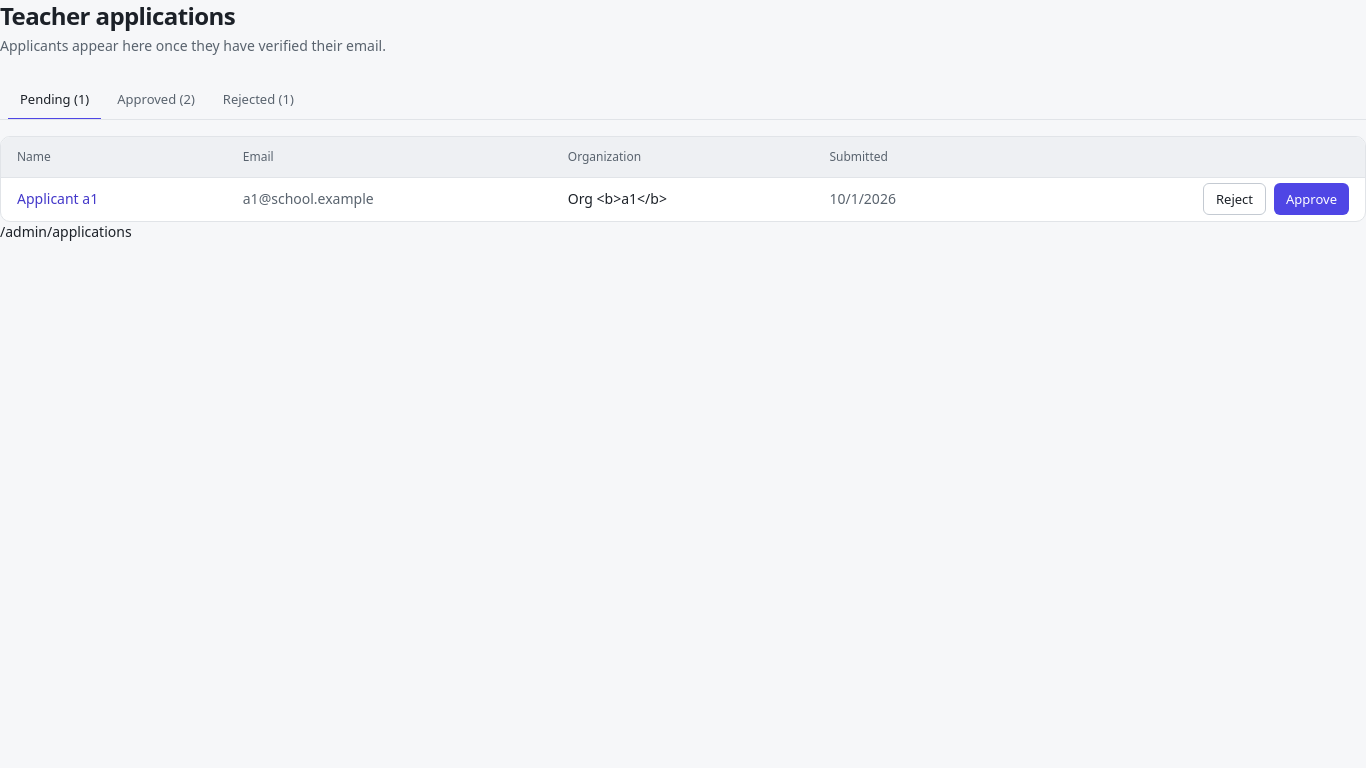
applications queue › shows the degree and proof links as text, linking only https ones safely
Click the button with aria-label "Open application from Applicant a1": (58, 199) [17, 189, 98, 209]
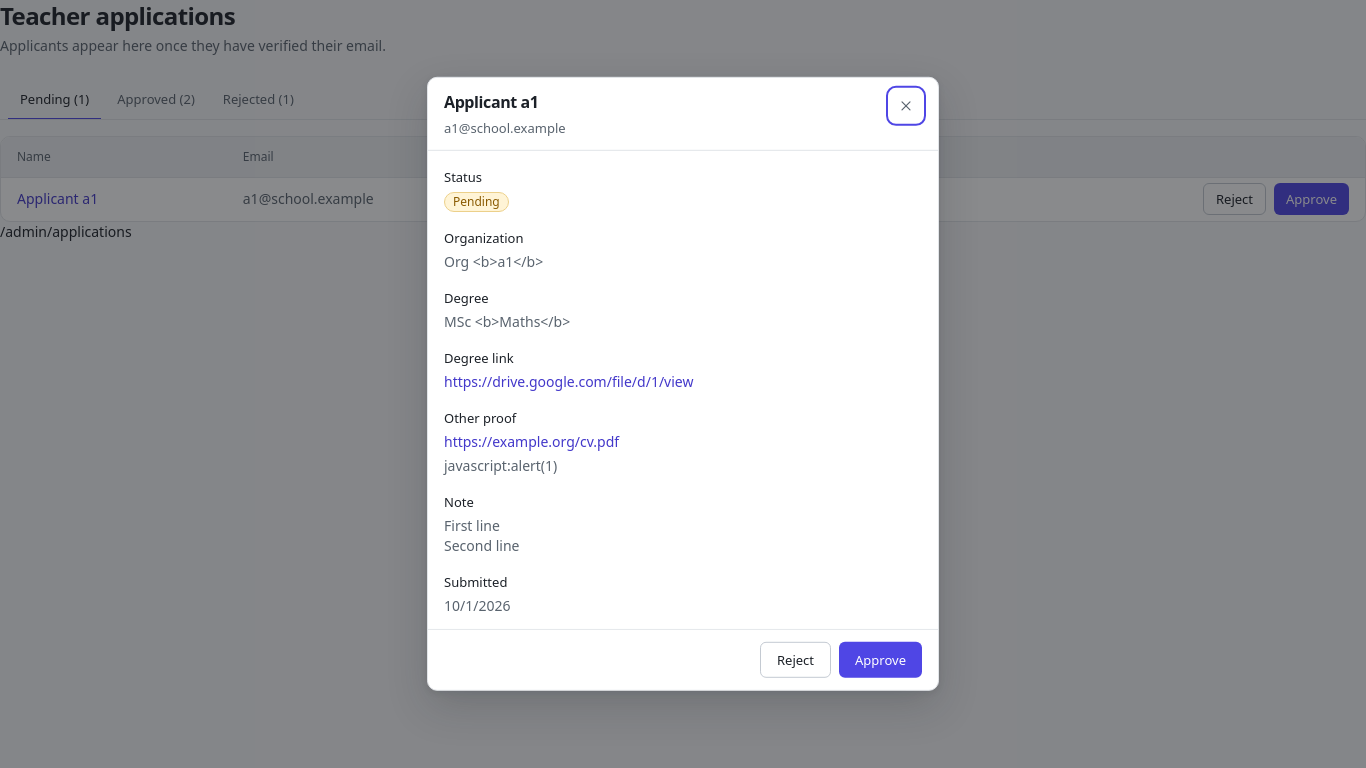
expect the text "MSc <b>Maths</b>" is shown: met, box [444, 312, 570, 331]
expect the link "https://example.org/cv.pdf" is shown: met, box [444, 432, 619, 451]
